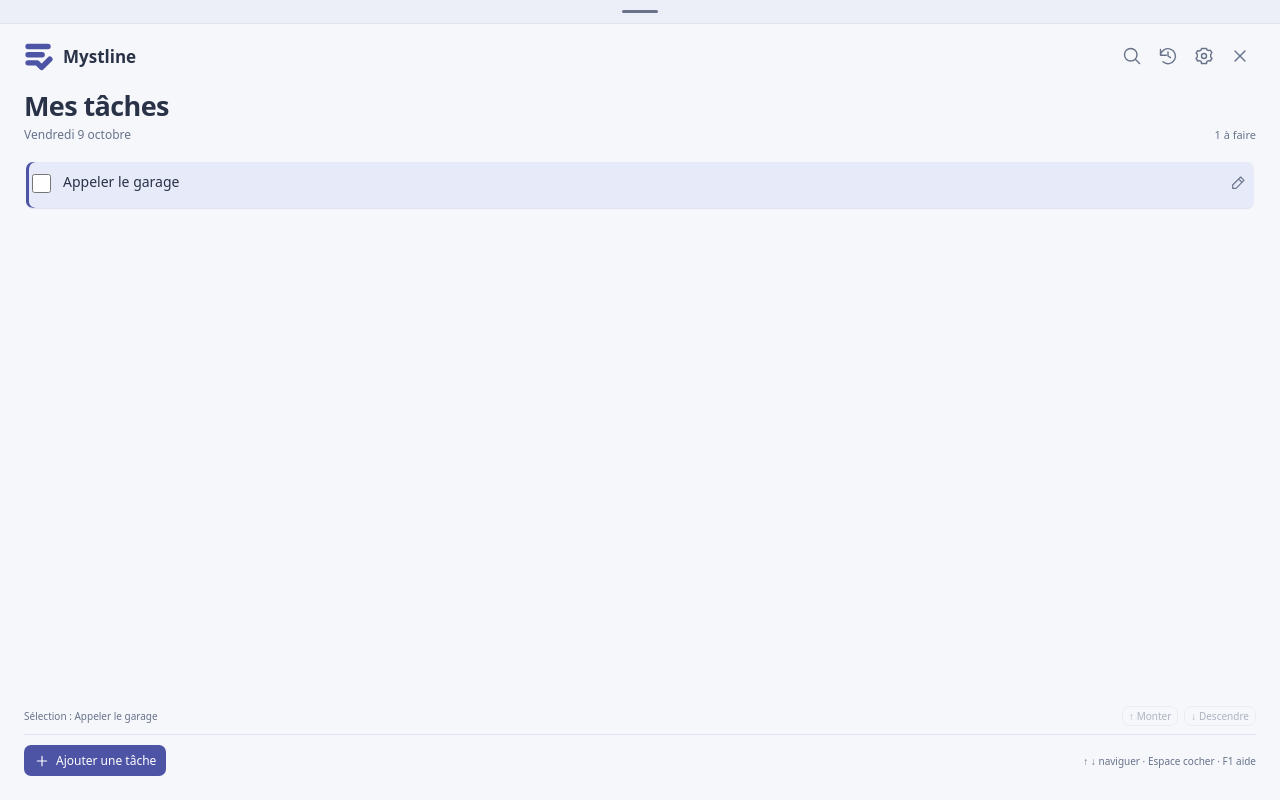
Scenario: regroupements fonctionnels validés › déplace une tâche après confirmation de sa date puis la remet sans date
# Quand une date future est enregistrée.
Click the button named "Modifier : Appeler le garage" at (1238, 185), box [1228,172,1248,198]
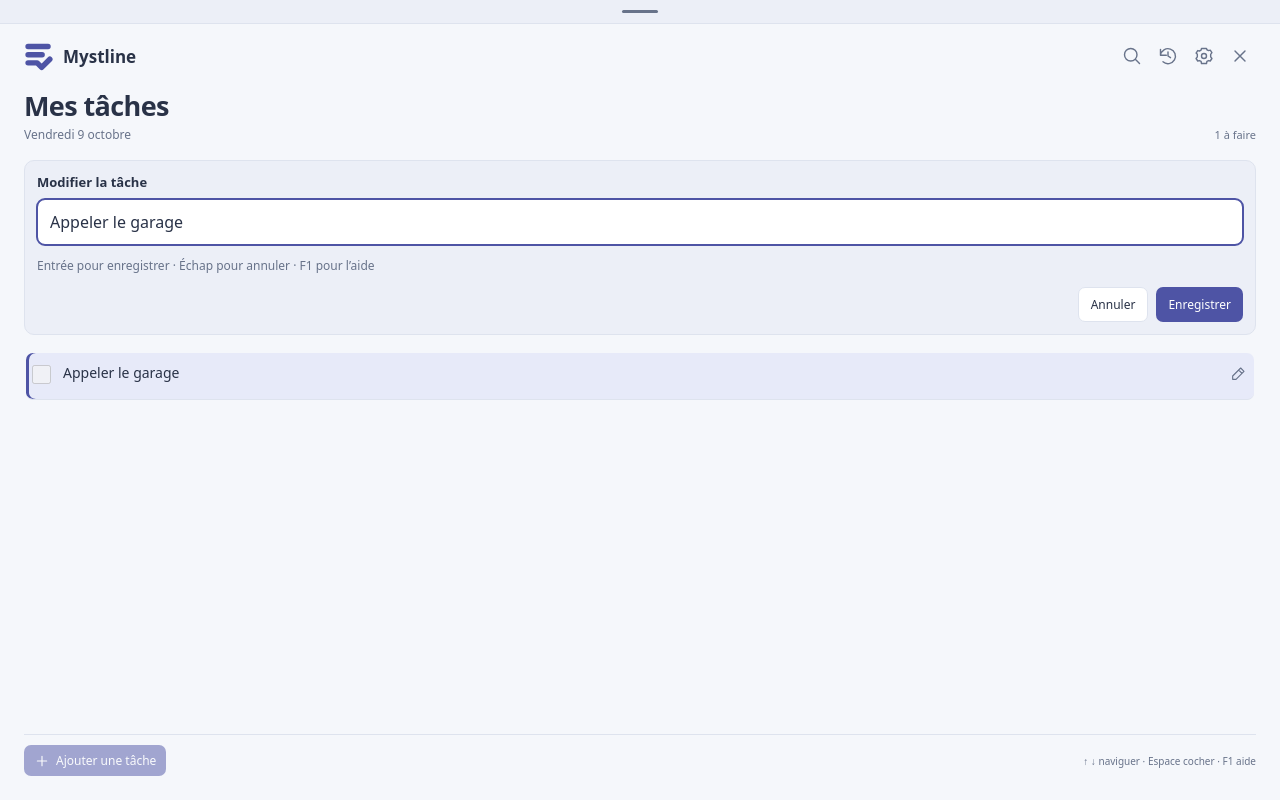
Replace the text in the field with id "edit" with "Appeler le garage /p lundi" at (640, 222), box [37,199,1243,245]
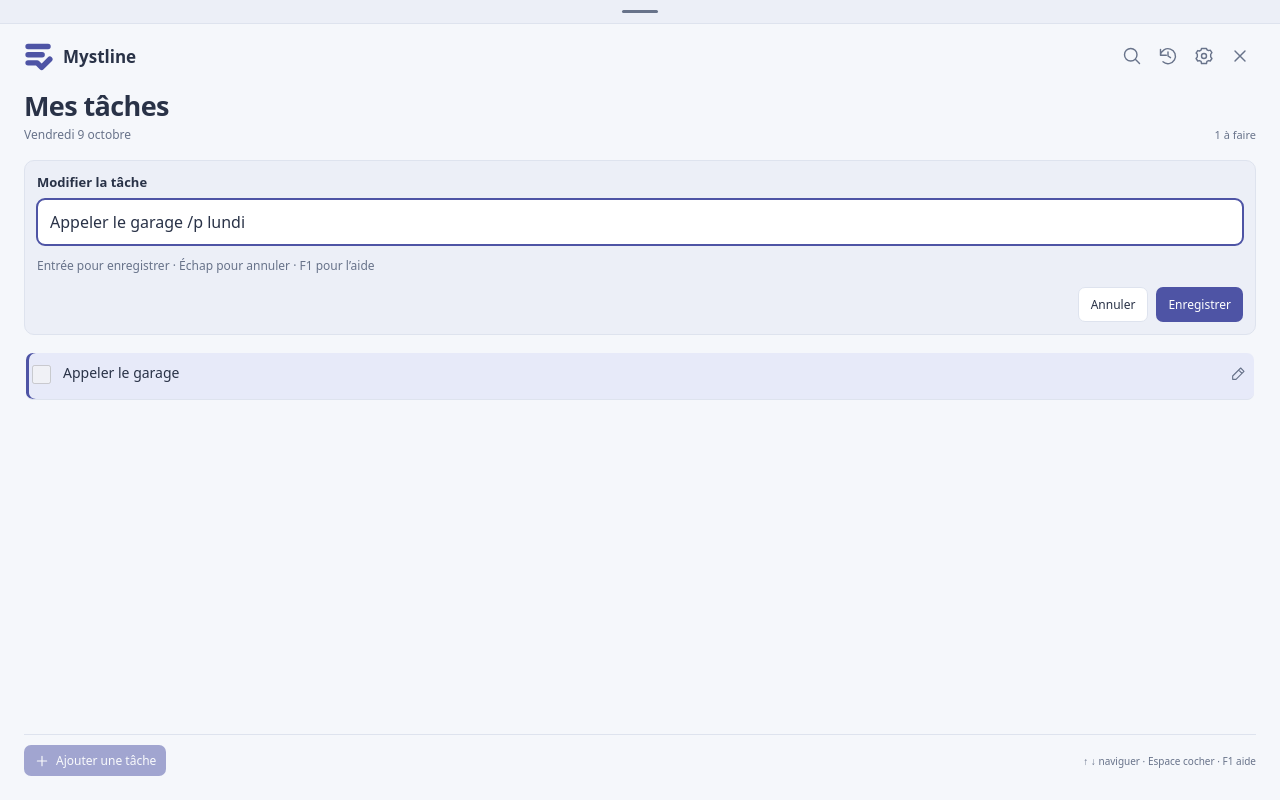
Submit the form with class "composer", box [24,160,1256,335]
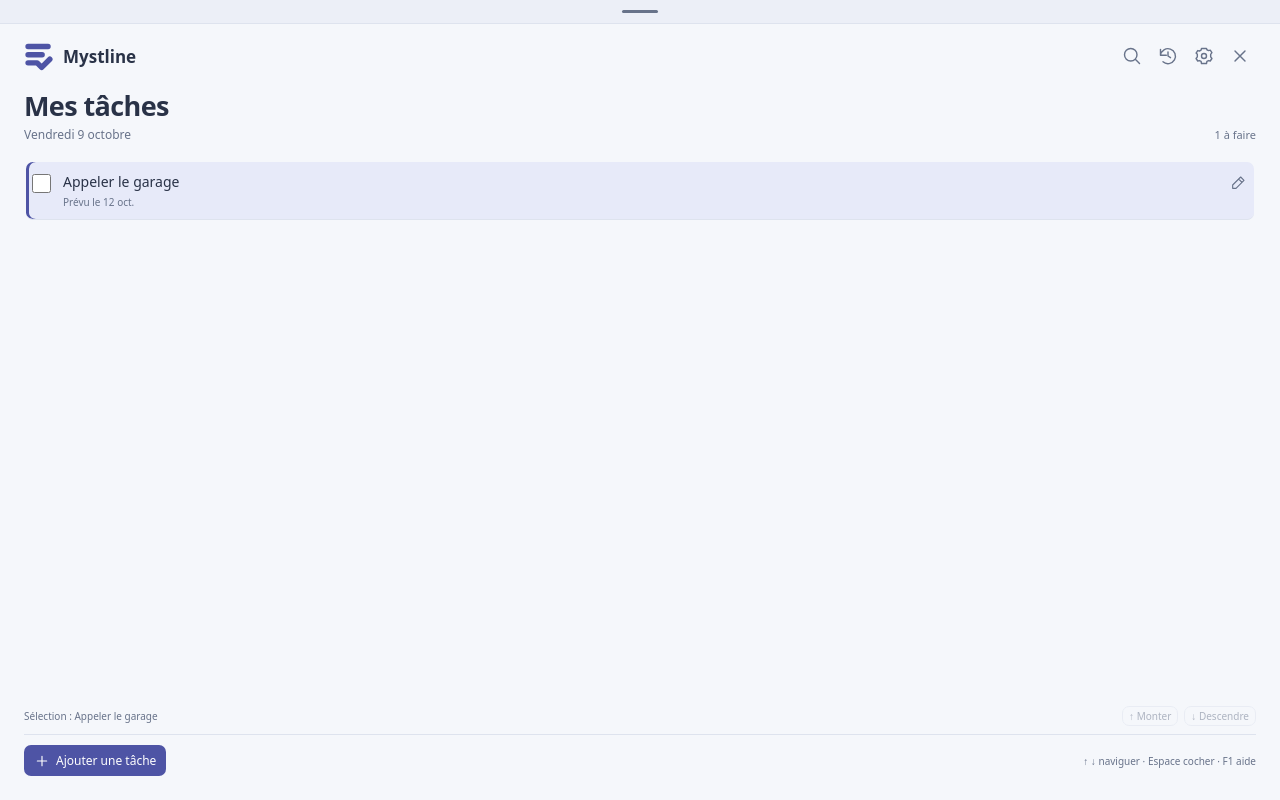
expect the number of list items with class "task" is 1: met, box [26,162,1254,220]
expect the list item "Appeler le garage Prévu le 12 oct." is shown: met, box [26,162,1254,220]
Click the button named "Modifier : Appeler le garage" at (1238, 185), box [1228,172,1248,198]
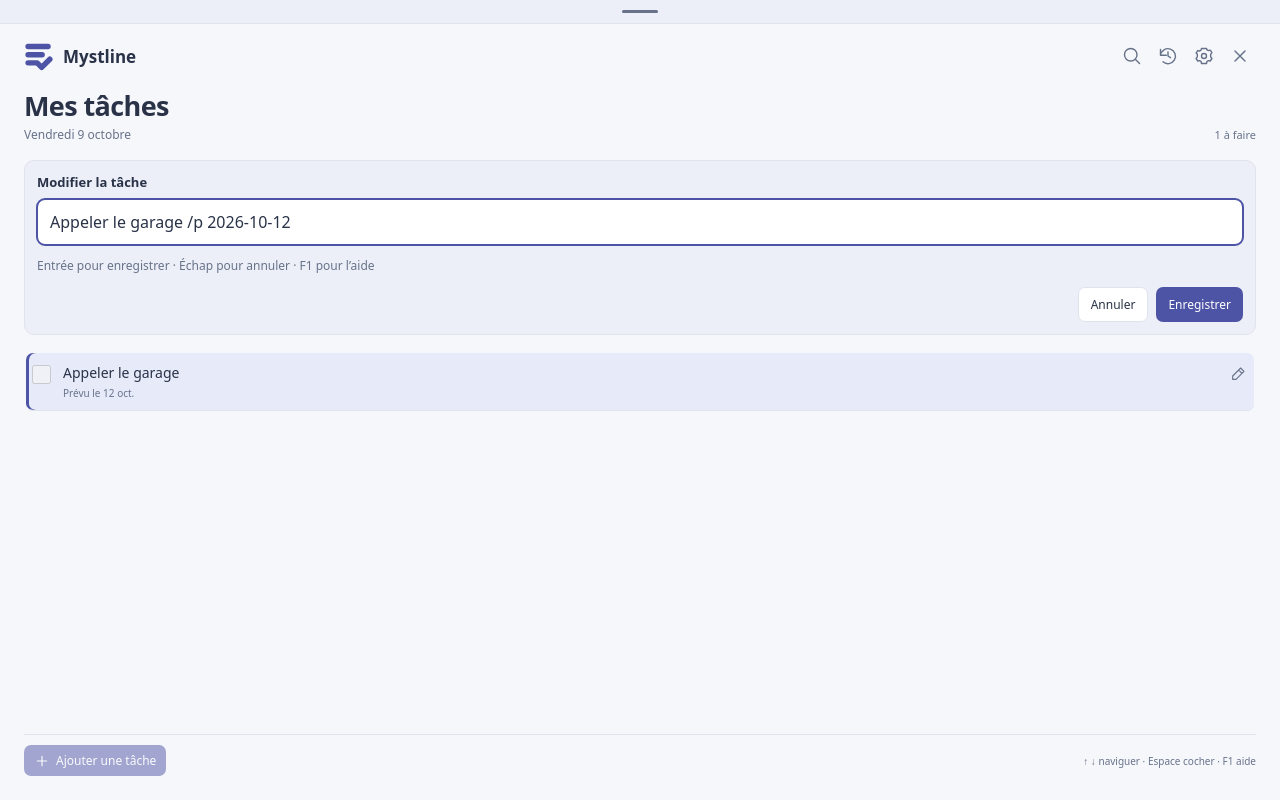
expect the field with id "edit" holds "Appeler le garage /p 2026-10-12": met
# Quand la date est retirée, alors la tâche revient seule sans date.
Replace the text in the field with id "edit" with "Appeler le garage" at (640, 222), box [37,199,1243,245]
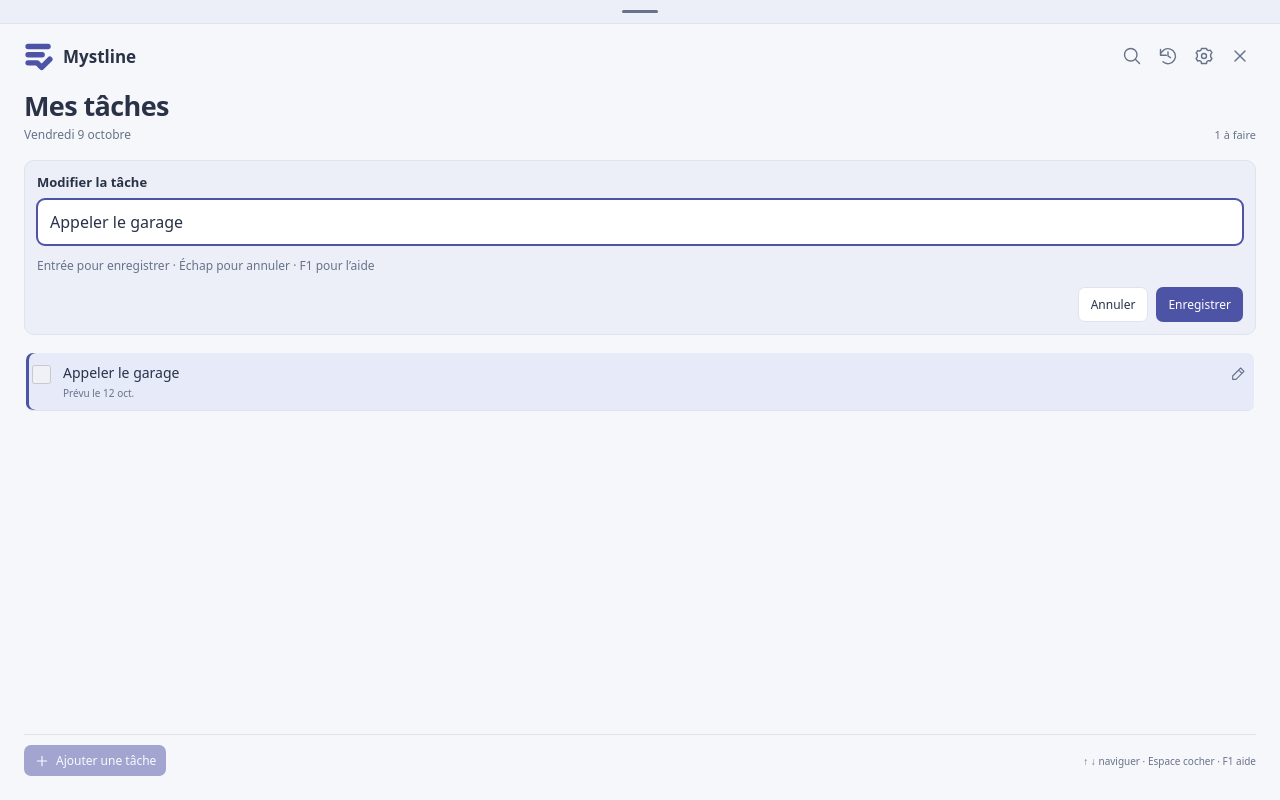
Submit the form with class "composer", box [24,160,1256,335]
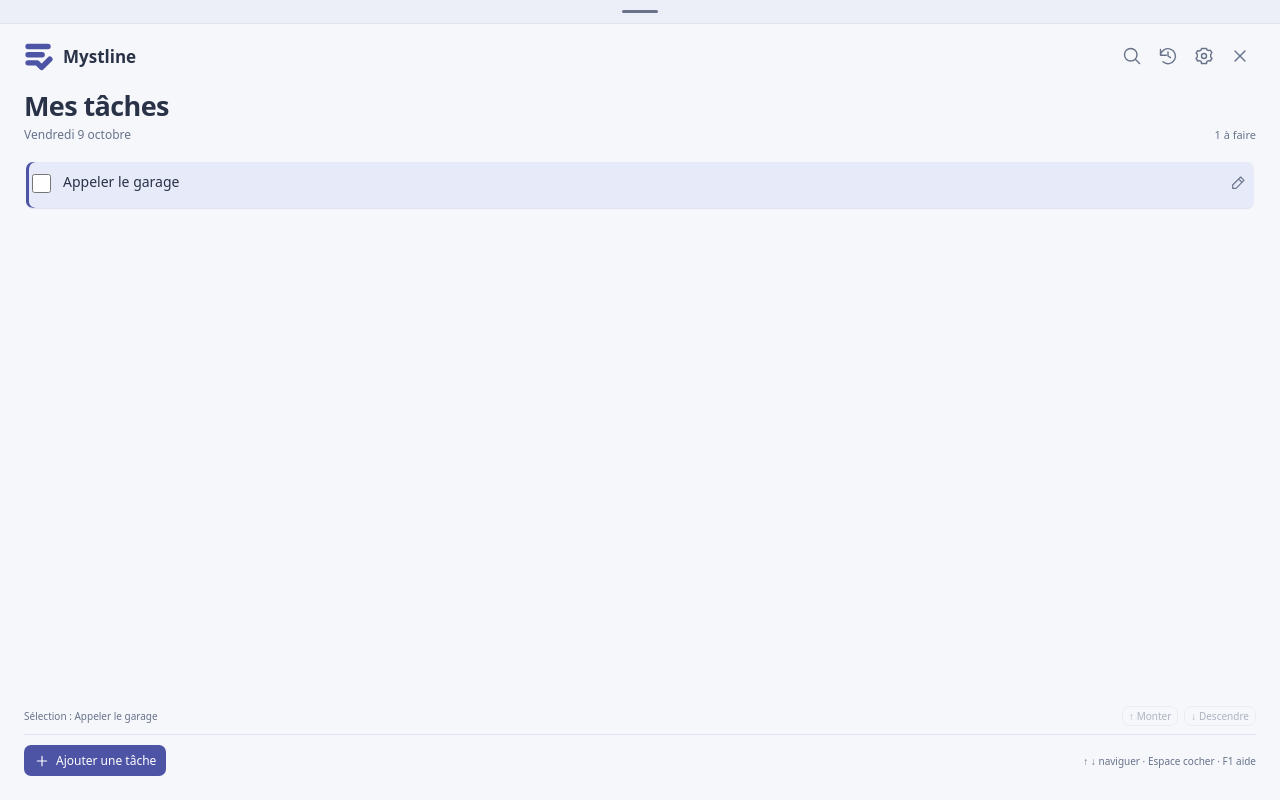
expect the number of list items with class "task" is 1: met, box [26,162,1254,209]
expect the text "Prévu" is gone: met
